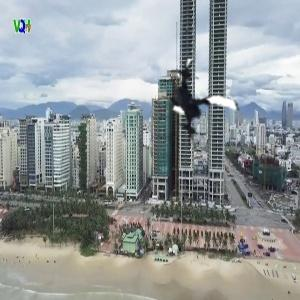drone: (154, 59, 252, 157)
